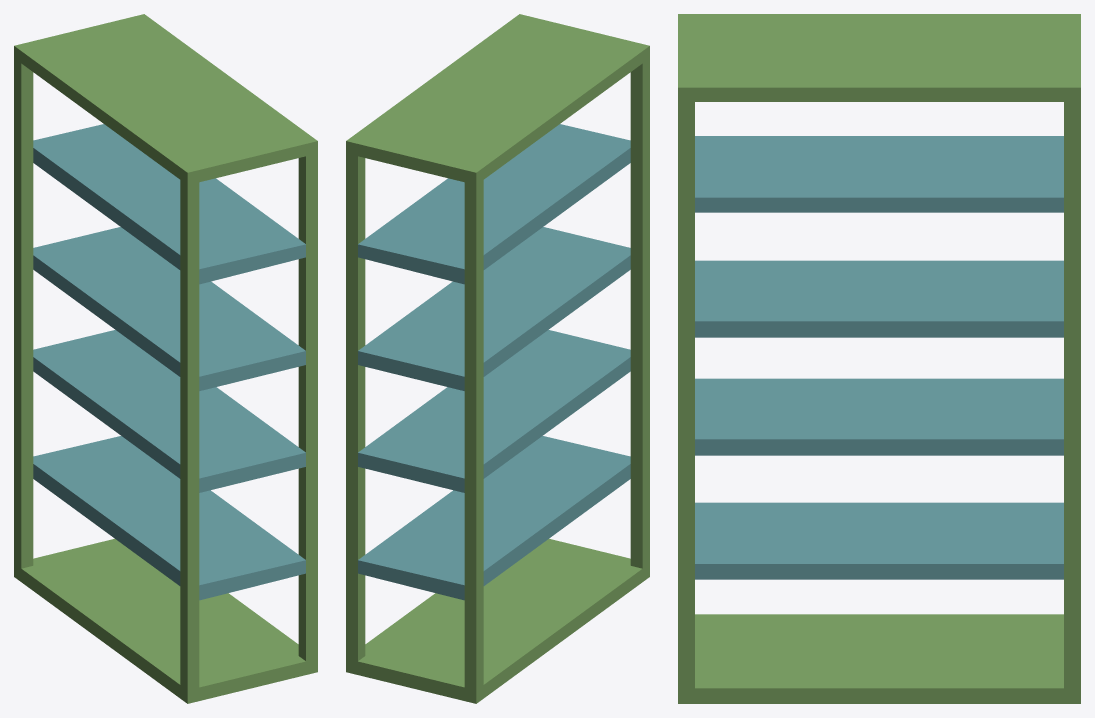
Rendered from MetalOpenShelf.fbx.
The picture shows the model from 3 angles, left to right: view 1: azimuth 30°, elevation 25°; view 2: azimuth 150°, elevation 25°; view 3: azimuth 270°, elevation 25°; orthographic projection. The views are drawn at different scales.
Visible parts, largest first — view 1: pCube226; view 2: pCube226; view 3: pCube226.
Part boxes in pixels (x1,y1,x2,y2): pCube226: (14, 14, 317, 703); pCube226: (346, 14, 649, 703); pCube226: (678, 14, 1080, 703).
Bounding box in the file's own units: 2.61 × 10.16 × 6.01.
